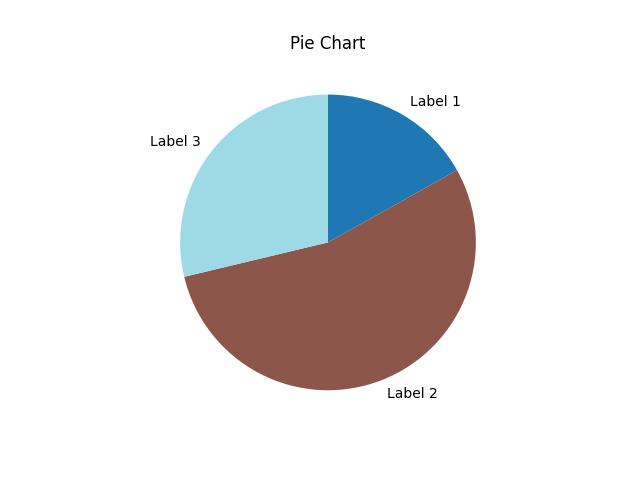sector: (183, 169, 475, 392), (179, 92, 328, 279), (329, 93, 457, 244)
